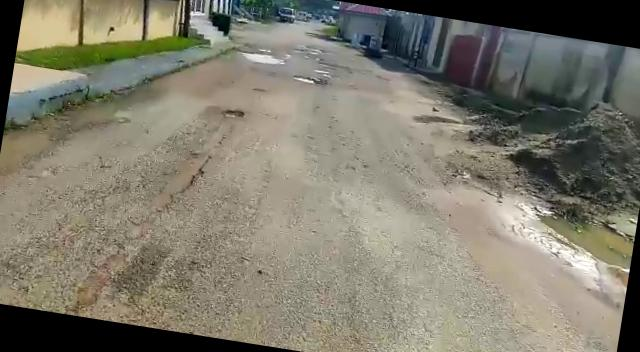pothole: (236, 48, 286, 66), (290, 72, 324, 86), (221, 105, 245, 120)
